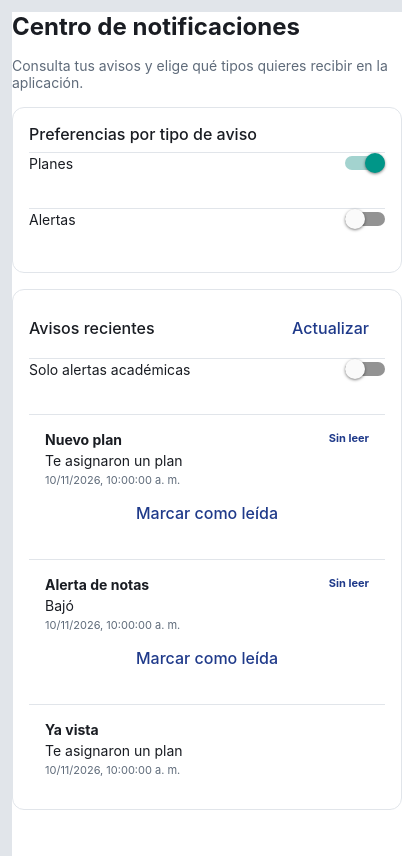
marcar como leída actualiza la lista
Check: the text "Nuevo plan" is shown, box x1=45 y1=431 x2=122 y2=448
Click the button "Marcar como leída" below "Nuevo plan" at (207, 513), box x1=45 y1=491 x2=369 y2=535
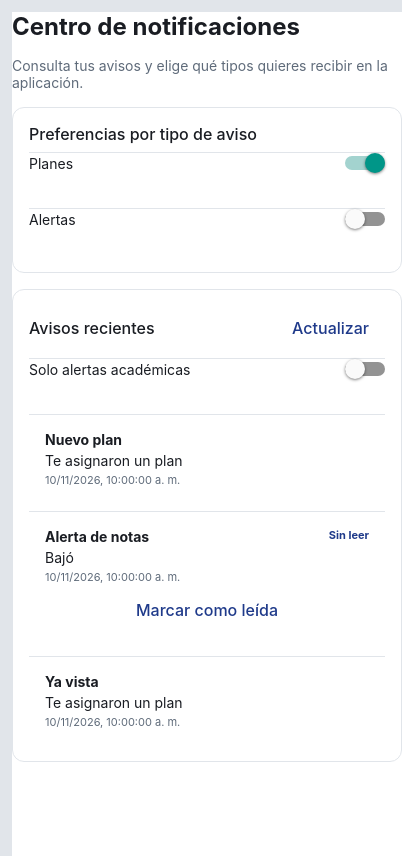
Check: the text "Sin leer" is shown once, box x1=329 y1=528 x2=369 y2=545
